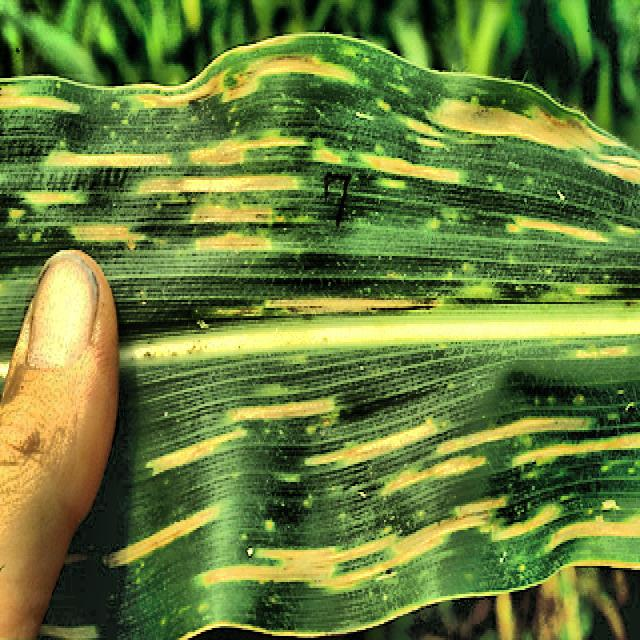gray_spot: (117, 29, 639, 638)
